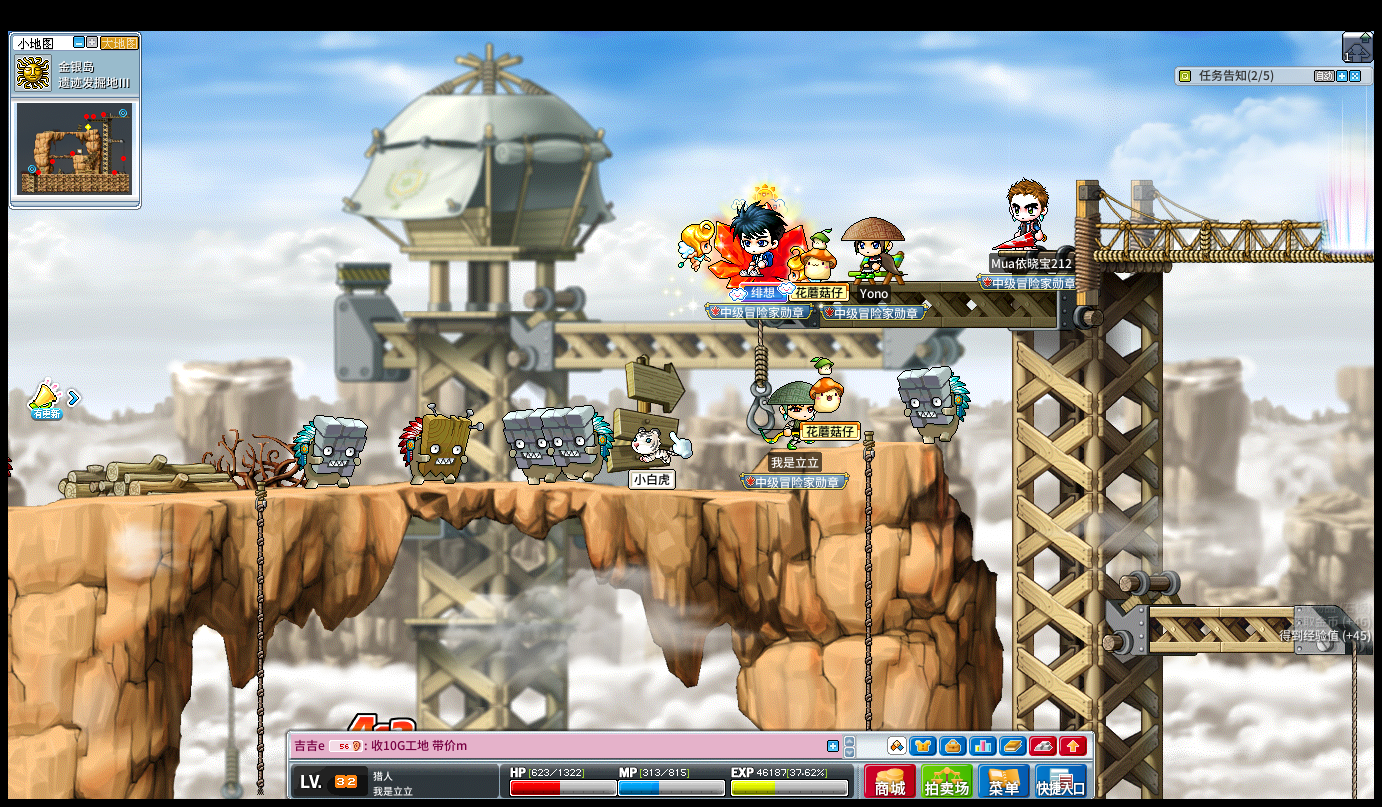floor: (15, 476, 866, 505), (22, 478, 843, 497), (830, 438, 932, 452)
monster: (396, 405, 479, 484), (292, 413, 368, 490), (541, 405, 613, 486), (898, 366, 971, 443), (502, 406, 549, 484)
rope: (251, 480, 266, 796), (860, 432, 875, 725), (1349, 649, 1364, 791)
